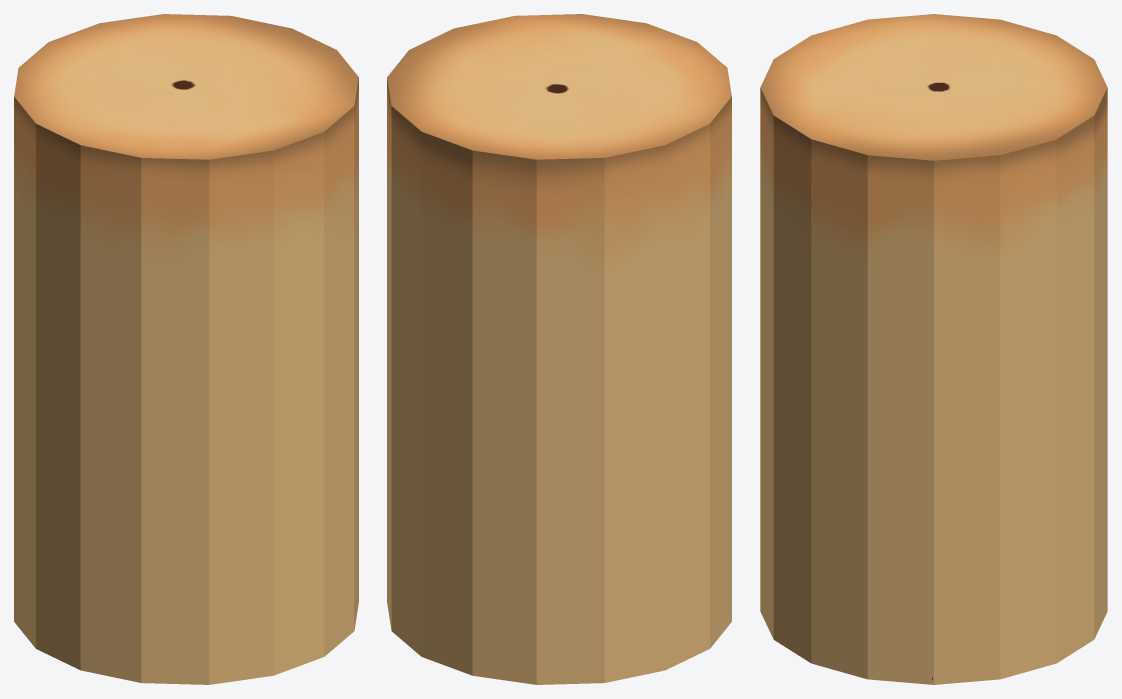
File: Candle.fbx
The picture shows the model from 3 angles, left to right: view 1: azimuth 30°, elevation 25°; view 2: azimuth 150°, elevation 25°; view 3: azimuth 270°, elevation 25°; orthographic projection.
Parts seen in each view (by area): view 1: Candle; view 2: Candle; view 3: Candle.
Boxes of the visible parts, box(x1,y1,x2,y2) form: Candle: box(14, 14, 358, 684); Candle: box(387, 14, 731, 684); Candle: box(760, 14, 1107, 684).
Size of the model in its own units: 12 by 20 by 12.
1 material, 1 textured.
